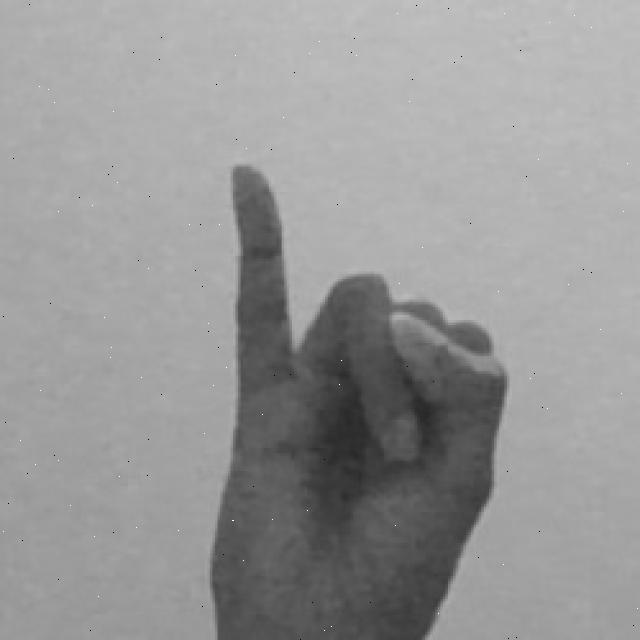I: (208, 164, 510, 640)
